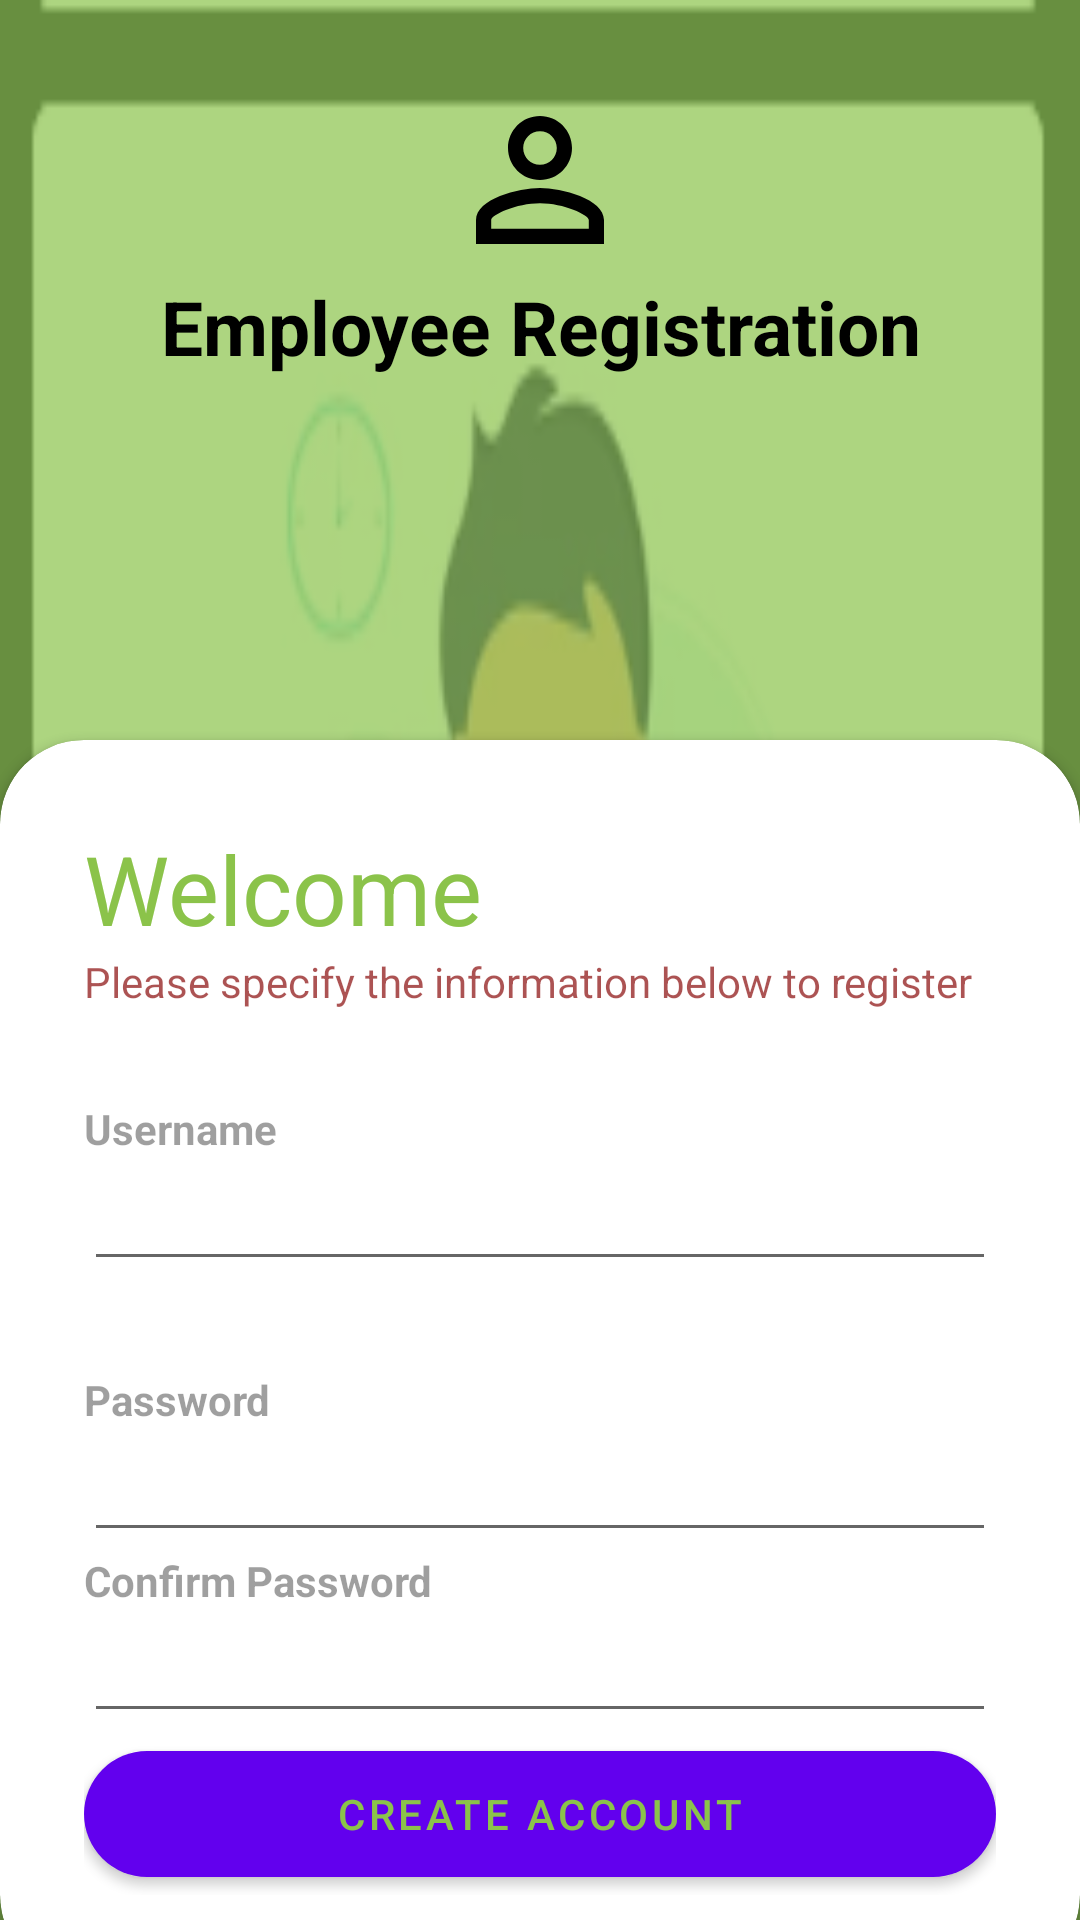

Where to tap for icons on this 1080×1920 app screen, as [x,y]:
admin: [540,180]
